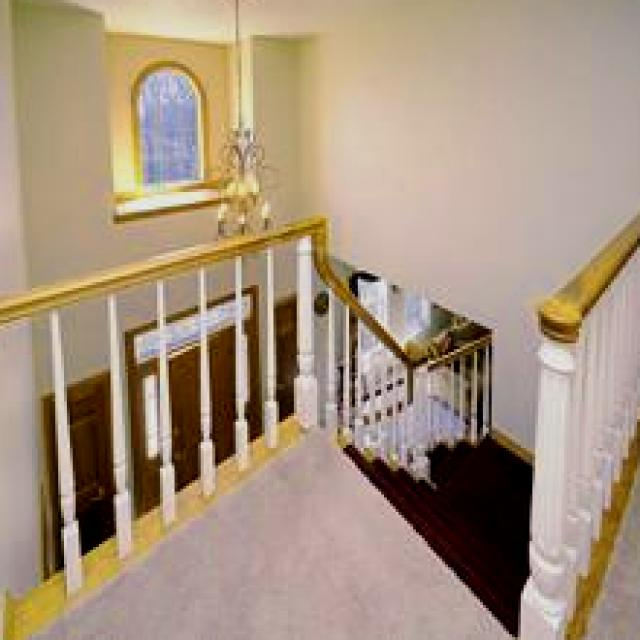downstair: (304, 342, 545, 601)
